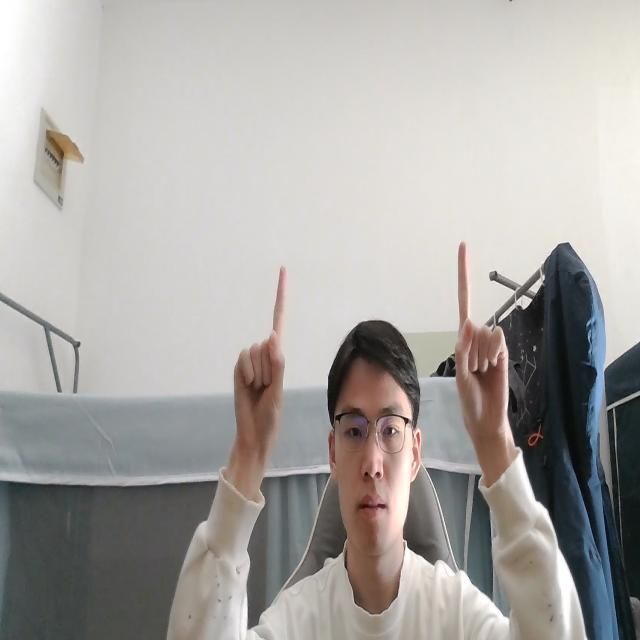one: (450, 232, 515, 462), (228, 250, 290, 470)
